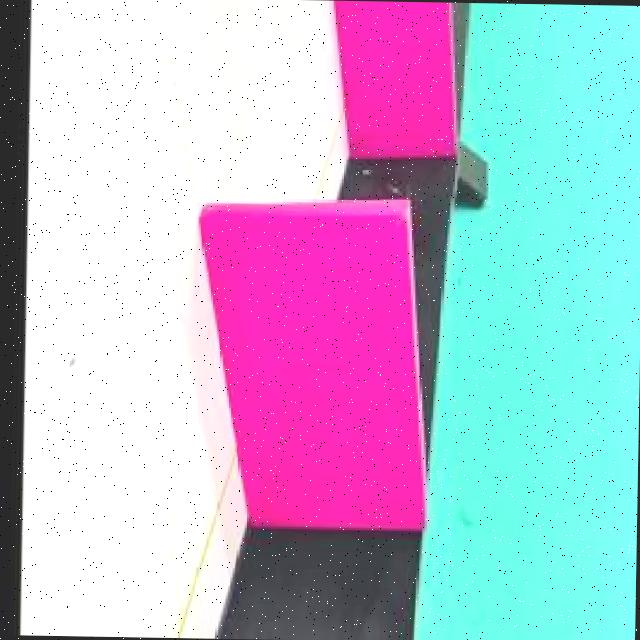xparking: (198, 216, 400, 514), (330, 0, 444, 147)
